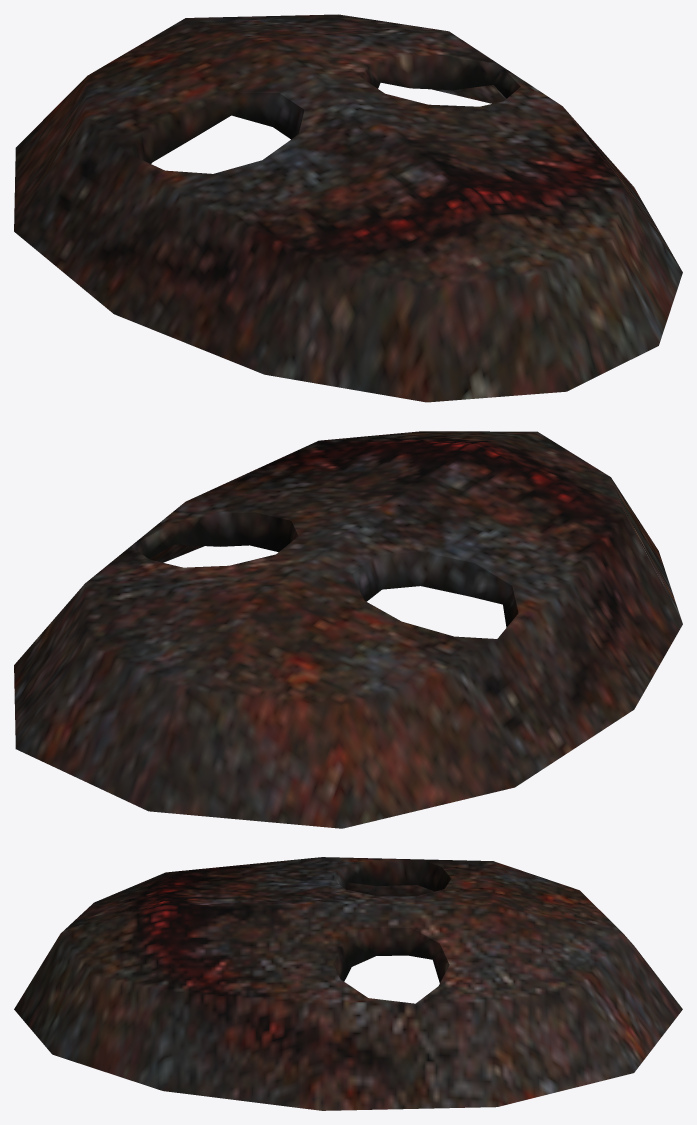
File: mask_mx_5.fbx
3 renders of one model, top to bottom at view 1: azimuth 30°, elevation 25°; view 2: azimuth 150°, elevation 25°; view 3: azimuth 270°, elevation 25°, orthographic. The views are drawn at different scales.
Parts seen in each view (by area): view 1: mask_mx_5; view 2: mask_mx_5; view 3: mask_mx_5.
Part boxes in pixels (x1,y1,x2,y2): mask_mx_5: [14, 14, 682, 402]; mask_mx_5: [14, 431, 682, 828]; mask_mx_5: [14, 857, 682, 1110].
Bounding box in the file's own units: 0.2297 × 0.3198 × 0.0554.
